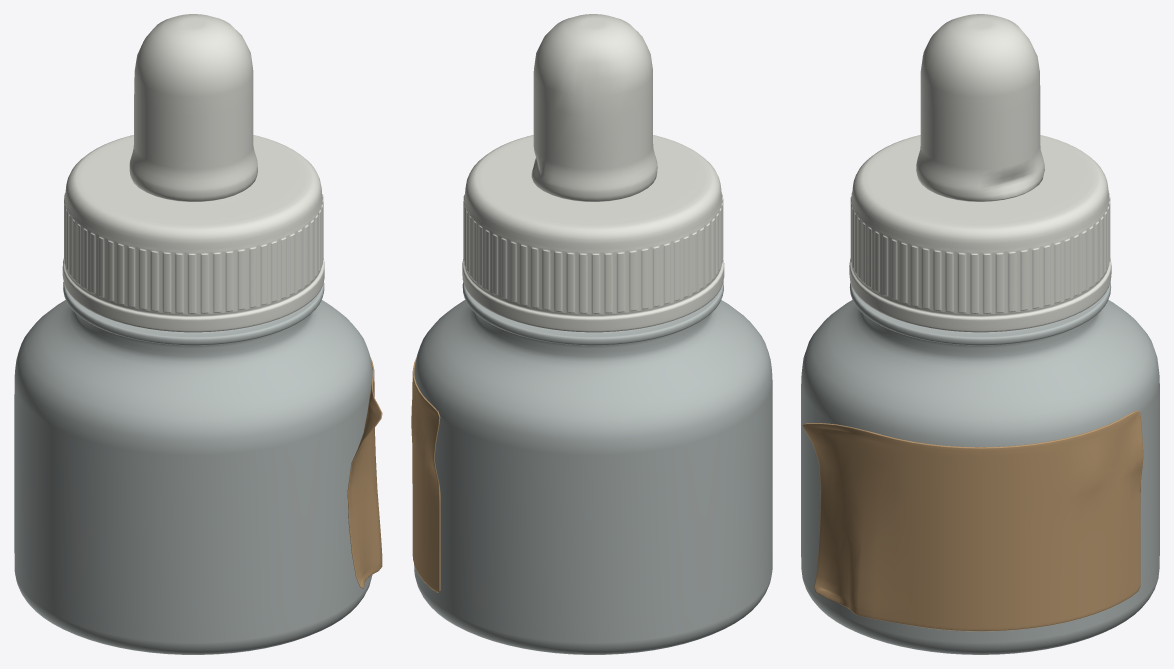
File: paint_container_bottle_pink_a02.glb
3 renders of one model, left to right at view 1: azimuth 30°, elevation 25°; view 2: azimuth 150°, elevation 25°; view 3: azimuth 270°, elevation 25°, orthographic.
Bounding box in the file's own units: 0.0505 × 0.0867 × 0.0503.
